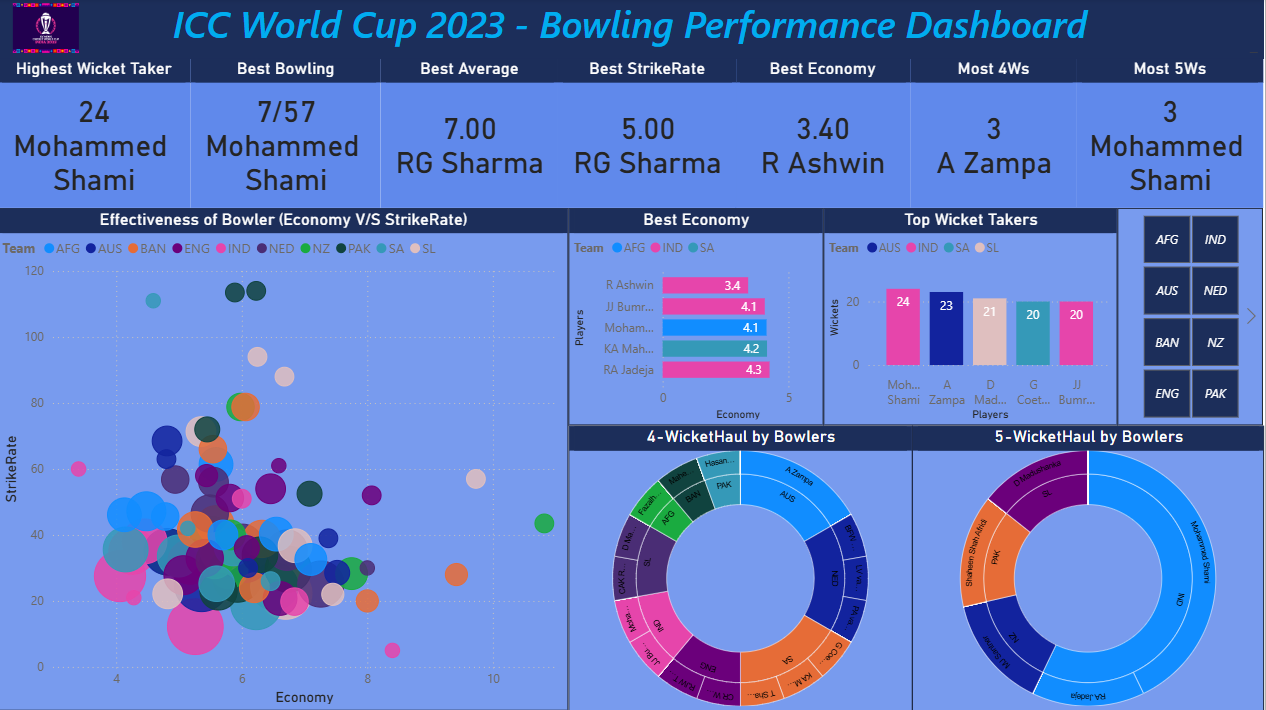

The dashboard page shown, as its layout file describes it:
{"tool":"powerbi","page":{"name":"Bowling Performance","canvas":[1280,720],"ordinal":2},"visuals":[{"type":"card","title":"Highest Wicket Taker","fields":{"Values":["Wickets.Top Wicket Taker"]},"box":[0,60.6,195.3,151.4],"z":0},{"type":"card","title":"Best Bowling","fields":{"Values":["Wickets.BestBowling"]},"box":[195.3,60.6,192.3,151.4],"z":1000},{"type":"slicer","fields":{"Values":["Wickets.Team"]},"box":[1131.1,212,146.9,219.6],"z":2000},{"type":"columnChart","title":"Top Wicket Takers","fields":{"Category":["Wickets.Player"],"Y":["Wickets.Wickets"],"Series":["Wickets.Team"]},"box":[834.3,212,296.8,219.6],"z":3000},{"type":"card","title":"Best Economy","fields":{"Values":["Wickets.Best Economy"]},"box":[745,60.6,177.2,151.4],"z":4000},{"type":"barChart","title":"Best Economy ","fields":{"Category":["Wickets.Player","Wickets.Team"],"Y":["Wickets.Economy"],"Series":["Wickets.Team"]},"box":[576.9,212,257.4,219.6],"z":5000},{"type":"Sunburst1445472000808","title":"4-WicketHaul by Bowlers","fields":{"Nodes":["Wickets.Team","Wickets.Player"],"Values":["Wickets.4WicketHaul"]},"box":[576.9,431.4,347.1,289.3],"z":6000},{"type":"Sunburst1445472000808","title":"5-WicketHaul by Bowlers","fields":{"Values":["Wickets.5WicketHaul"],"Nodes":["Wickets.Team","Wickets.Player"]},"box":[924.1,431.4,355.4,289.3],"z":7000},{"type":"card","title":"Best Average","fields":{"Values":["Wickets.BestAverage"]},"box":[387.6,60.6,178.7,151.4],"z":8000},{"type":"card","title":"Best StrikeRate","fields":{"Values":["Wickets.BestStrikeRate"]},"box":[566.3,60.6,180.2,151.4],"z":9000},{"type":"scatterChart","title":"Effectiveness of Bowler (Economy V/S StrikeRate)","fields":{"X":["Wickets.Economy"],"Size":["Wickets.Wickets"],"Y":["Wickets.StrikeRate"],"Category":["Wickets.Player"],"Series":["Wickets.Team"]},"box":[0,212,576.9,507.3],"z":10000},{"type":"card","title":"Most 4Ws","fields":{"Values":["Wickets.Most4WicketHauls"]},"box":[922.2,60.6,168.1,151.4],"z":11000},{"type":"card","title":"Most 5Ws","fields":{"Values":["Wickets.Most5WicketHauls"]},"box":[1090.2,60.6,187.8,151.4],"z":12000},{"type":"textbox","title":"ICC World Cup 2023 - Bowling Performance Dashboard","box":[0,0,1278,60.6],"z":13000},{"type":"image","box":[0,0,98.4,60.6],"z":14000}]}

Visuals, with their boxes in screenshot pixels (x1, y1, x2, y2), scaled from the page's 1280x720 canvas onto the 1266x710 screenshot:
"Highest Wicket Taker" card: select_region(0, 60, 193, 209)
"Best Bowling" card: select_region(193, 60, 383, 209)
slicer - Wickets.Team: select_region(1119, 209, 1264, 426)
"Top Wicket Takers" columnChart: select_region(825, 209, 1119, 426)
"Best Economy" card: select_region(737, 60, 912, 209)
"Best Economy " barChart: select_region(571, 209, 825, 426)
"4-WicketHaul by Bowlers" Sunburst1445472000808: select_region(571, 425, 914, 709)
"5-WicketHaul by Bowlers" Sunburst1445472000808: select_region(914, 425, 1265, 709)
"Best Average" card: select_region(383, 60, 560, 209)
"Best StrikeRate" card: select_region(560, 60, 738, 209)
"Effectiveness of Bowler (Economy V/S StrikeRate)" scatterChart: select_region(0, 209, 571, 709)
"Most 4Ws" card: select_region(912, 60, 1078, 209)
"Most 5Ws" card: select_region(1078, 60, 1264, 209)
"ICC World Cup 2023 - Bowling Performance Dashboard" textbox: select_region(0, 0, 1264, 60)
image: select_region(0, 0, 97, 60)
